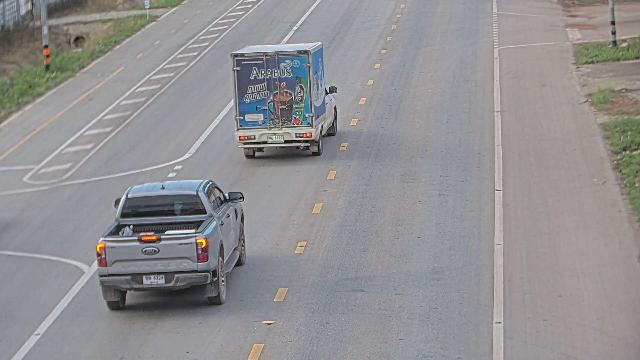pickup-truck: (95, 178, 247, 310)
truck: (228, 40, 340, 159)
